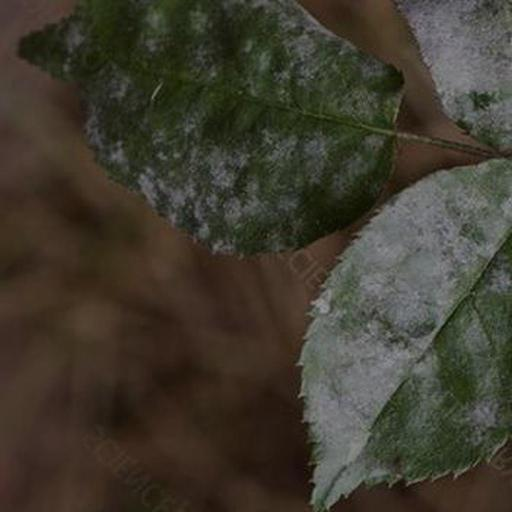powdery_mildew: (19, 0, 402, 254), (302, 160, 512, 510), (394, 0, 512, 152)
